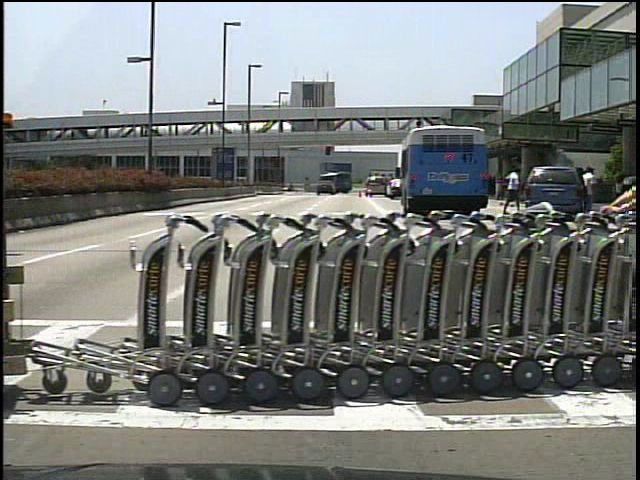person: (580, 165, 601, 214), (574, 164, 589, 217), (503, 164, 519, 213)
